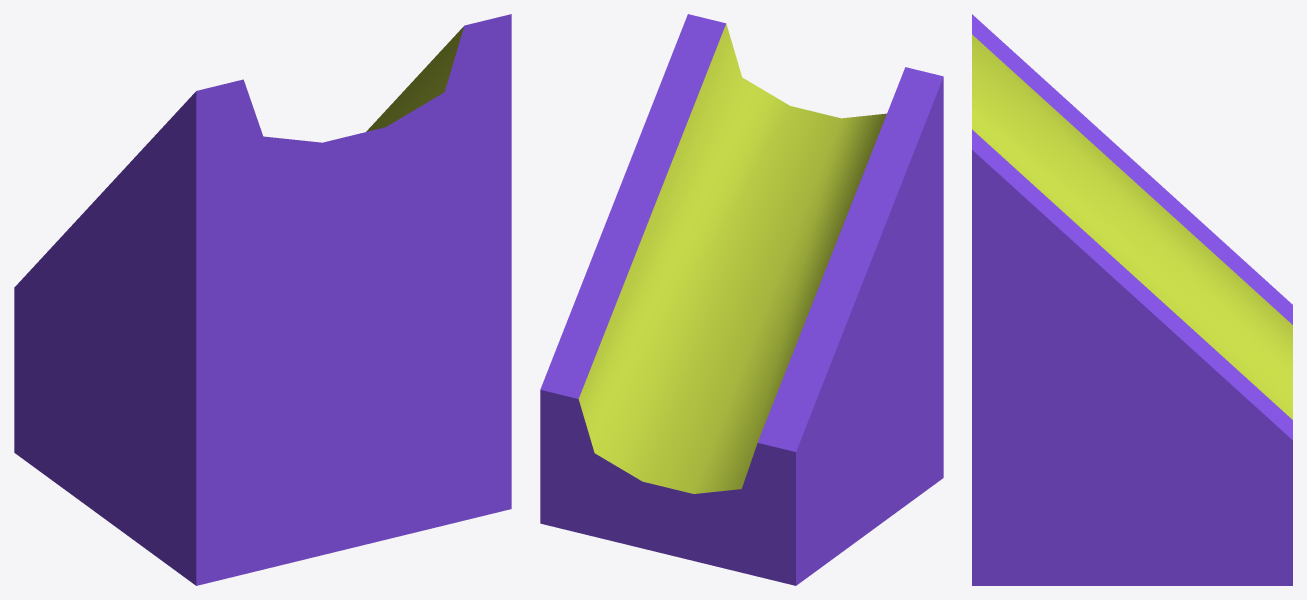
Rendered from slant_solid_C.fbx.
3 views of the same model, side by side, from view 1: azimuth 30°, elevation 25°; view 2: azimuth 150°, elevation 25°; view 3: azimuth 270°, elevation 25° (orthographic). The views are drawn at different scales.
Parts seen in each view (by area): view 1: slant_solid_C; view 2: slant_solid_C; view 3: slant_solid_C.
Boxes of the visible parts, x1,y1,x2,y2 form: slant_solid_C: (14, 14, 511, 585); slant_solid_C: (540, 14, 943, 585); slant_solid_C: (972, 14, 1292, 585).
Bounding box in the file's own units: 10 × 15 × 10.
